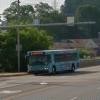Bus: (23, 49, 84, 73)
